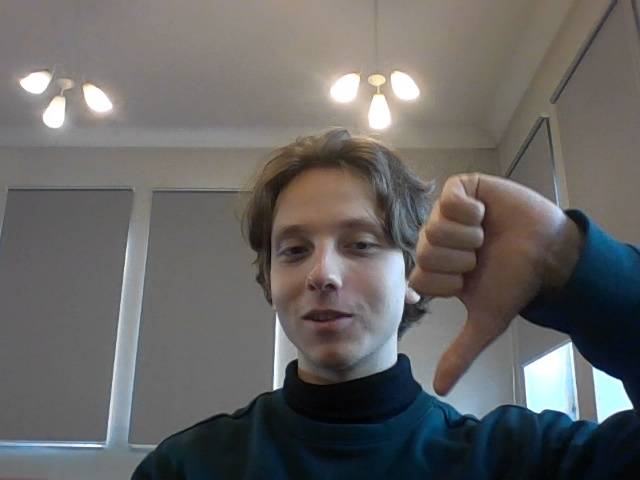no: (411, 165, 536, 401)
